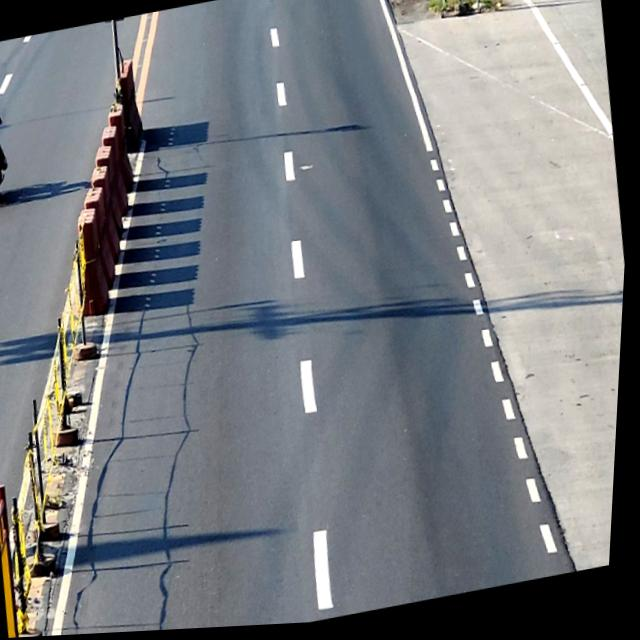Motorcycle: (0, 99, 15, 210)
